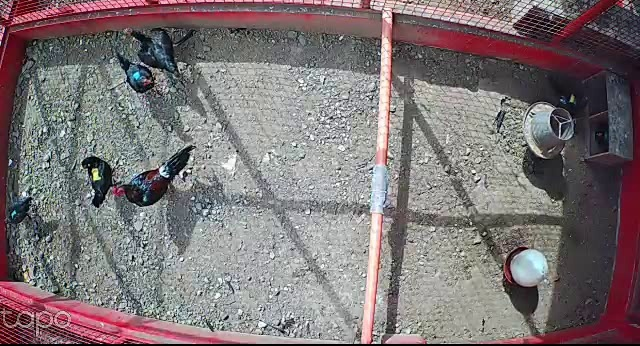Chicken: (122, 23, 184, 79), (81, 150, 119, 210), (115, 52, 160, 95)
Rooster: (112, 142, 197, 208)
Saddle_Color_Blue: (132, 72, 143, 80)
Saddle_Color_Yellow: (91, 167, 100, 182)
